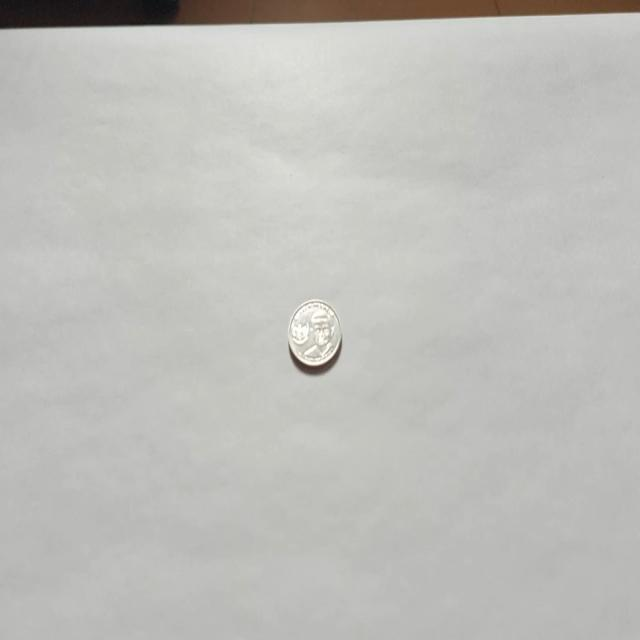seribu rupiah koin: (286, 297, 342, 369)
